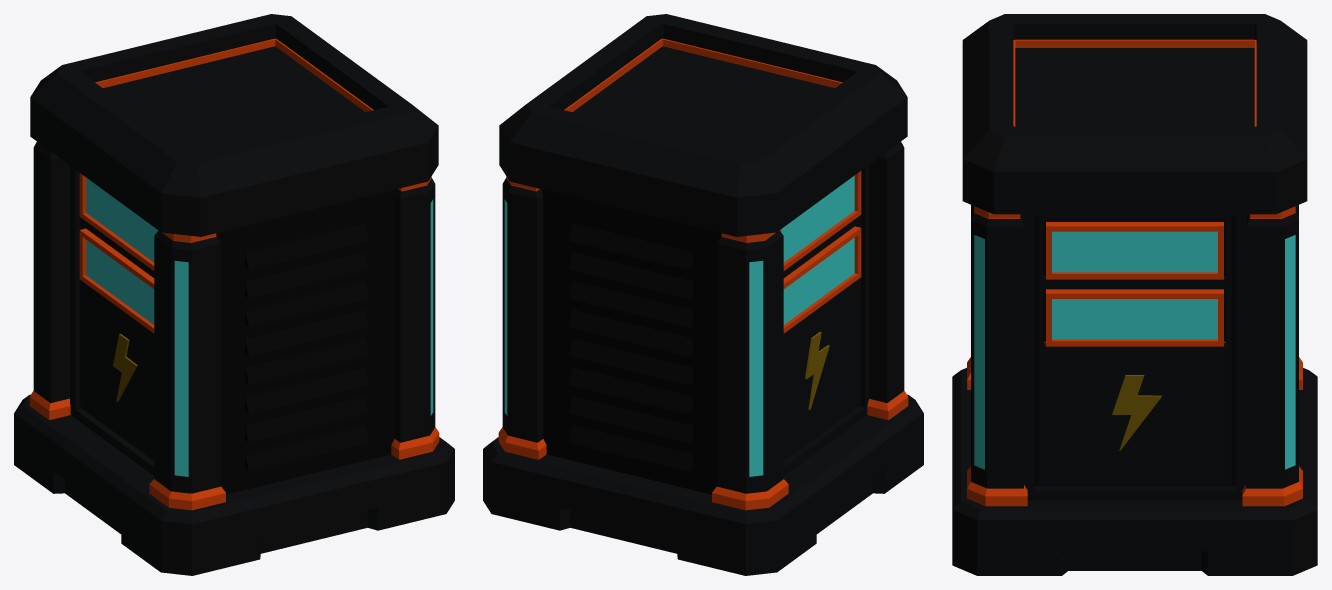
Rendered from SM_Power_Cabinet.obj.
3 views of the same model, side by side, from view 1: azimuth 30°, elevation 25°; view 2: azimuth 150°, elevation 25°; view 3: azimuth 270°, elevation 25° (orthographic). The views are drawn at different scales.
Parts seen in each view (by area): view 1: SM_Power_Cabinet_Base; view 2: SM_Power_Cabinet_Base; view 3: SM_Power_Cabinet_Base.
Boxes of the visible parts, x1,y1,x2,y2 form: SM_Power_Cabinet_Base: (14,14,454,575); SM_Power_Cabinet_Base: (483,14,923,575); SM_Power_Cabinet_Base: (952,14,1317,575).
Size of the model in its own units: 1 by 1.28 by 1.
